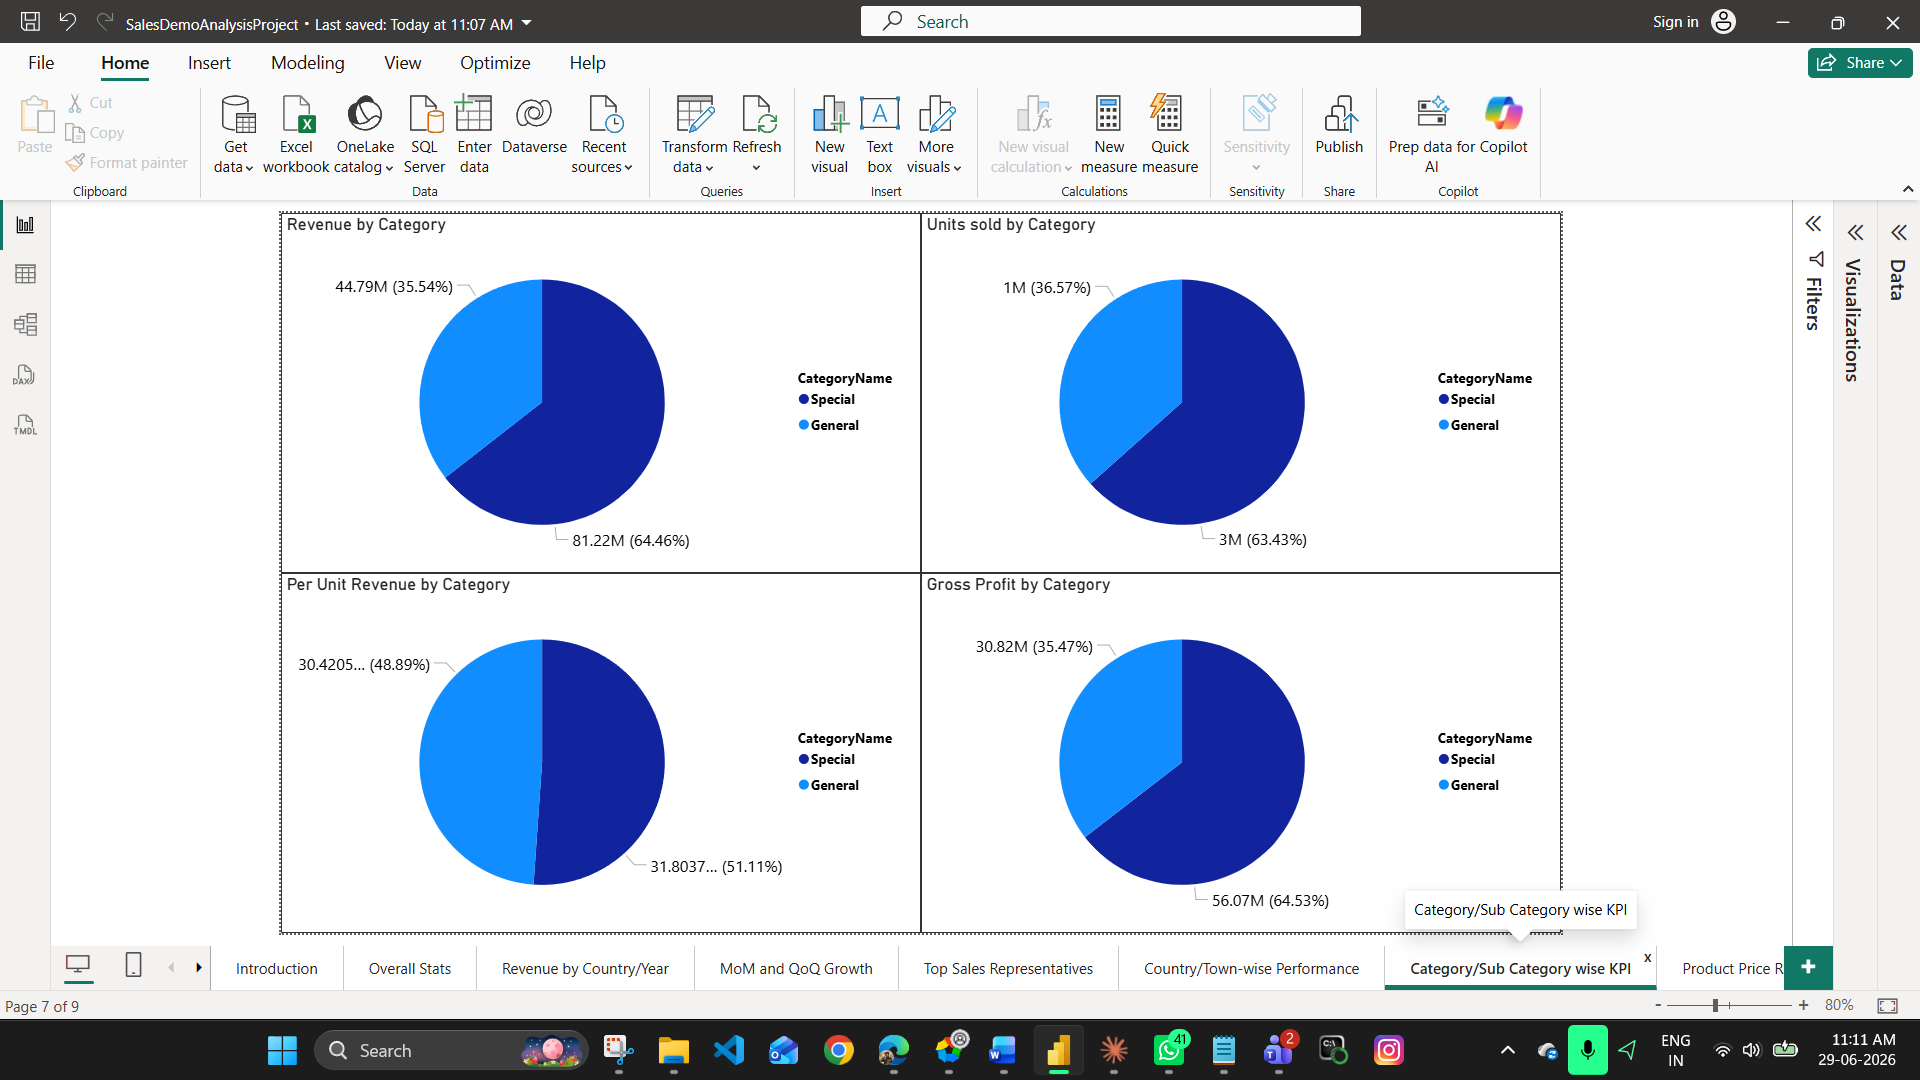

Layout of this report page (visuals, bound fields, positions):
{"tool":"powerbi","page":{"name":"Category/Sub Category wise KPI","canvas":[1280,720],"ordinal":6},"visuals":[{"type":"pieChart","title":"Revenue by Category","fields":{"Category":["DimCategory.CategoryName","DimSubCategory.SubCategory Name"],"Y":["Sum(FactSales.Total Revenue)"]},"box":[0,0,640,360],"z":0},{"type":"pieChart","title":"Units sold by Category","fields":{"Category":["DimCategory.CategoryName","DimSubCategory.SubCategory Name"],"Y":["Sum(FactSales.Units)"]},"box":[640,0,640,360],"z":1000},{"type":"pieChart","title":"Gross Profit by Category","fields":{"Category":["DimCategory.CategoryName","DimSubCategory.SubCategory Name"],"Y":["FactSales.Total Gross Profit"]},"box":[640,360,640,360],"z":2000},{"type":"pieChart","title":"Per Unit Revenue by Category","fields":{"Category":["DimCategory.CategoryName","DimSubCategory.SubCategory Name"],"Y":["FactSales.Revenue per Unit"]},"box":[0,360,640,360],"z":3000}]}

Visuals, with their boxes on the page's 1280x720 design canvas (x1, y1, x2, y2). These are canvas units, not pixel positions in the 1920x1080 screenshot, which may show the page scaled, cropped or inside an application window:
"Revenue by Category" pieChart: bbox=(0, 0, 640, 360)
"Units sold by Category" pieChart: bbox=(640, 0, 1280, 360)
"Gross Profit by Category" pieChart: bbox=(640, 360, 1280, 720)
"Per Unit Revenue by Category" pieChart: bbox=(0, 360, 640, 720)
